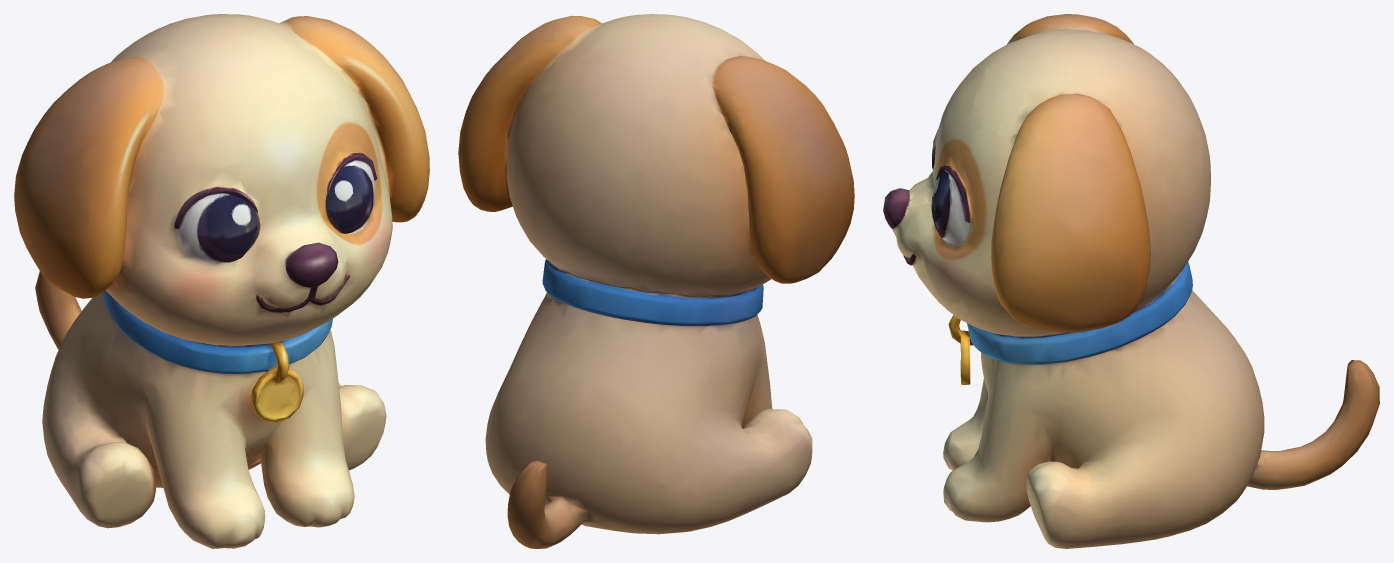
The model's file is pet-puppy.glb.
3 views of the same model, side by side, from view 1: azimuth 30°, elevation 25°; view 2: azimuth 150°, elevation 25°; view 3: azimuth 270°, elevation 25° (orthographic). The views are drawn at different scales.
Parts seen in each view (by area): view 1: tripo_node_05cee66e-905b-49a7-bbe8-5946944fea2a; view 2: tripo_node_05cee66e-905b-49a7-bbe8-5946944fea2a; view 3: tripo_node_05cee66e-905b-49a7-bbe8-5946944fea2a.
Part boxes in pixels (x1,y1,x2,y2): tripo_node_05cee66e-905b-49a7-bbe8-5946944fea2a: (14,14,429,548); tripo_node_05cee66e-905b-49a7-bbe8-5946944fea2a: (458,14,854,548); tripo_node_05cee66e-905b-49a7-bbe8-5946944fea2a: (883,14,1379,548).
Bounding box in the file's own units: 0.8286 × 0.9987 × 1.
1 material, 1 textured.
